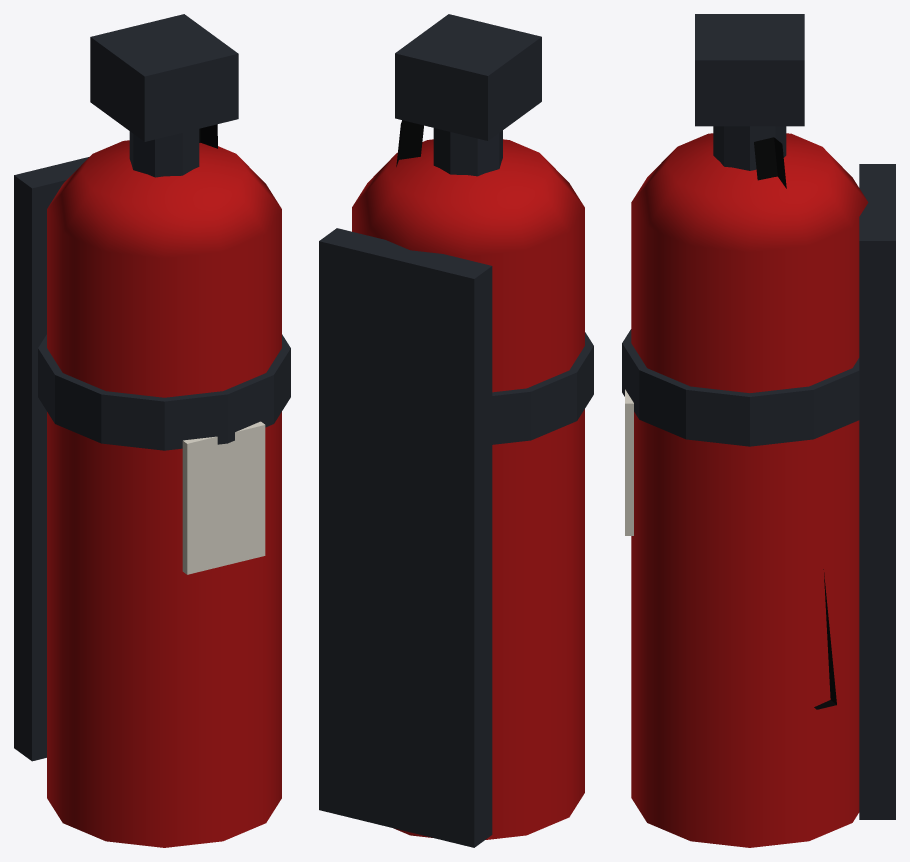
File: fire_extinguisher.glb
The picture shows the model from 3 angles, left to right: view 1: azimuth 30°, elevation 25°; view 2: azimuth 150°, elevation 25°; view 3: azimuth 270°, elevation 25°; orthographic projection.
Parts seen in each view (by area): view 1: fire_extinguisher; view 2: fire_extinguisher; view 3: fire_extinguisher.
Part boxes in pixels (bbox=[...]): fire_extinguisher: bbox=[14, 14, 290, 847]; fire_extinguisher: bbox=[319, 14, 593, 847]; fire_extinguisher: bbox=[622, 14, 895, 847].
Bounding box in the file's own units: 0.14 × 0.46 × 0.15.
